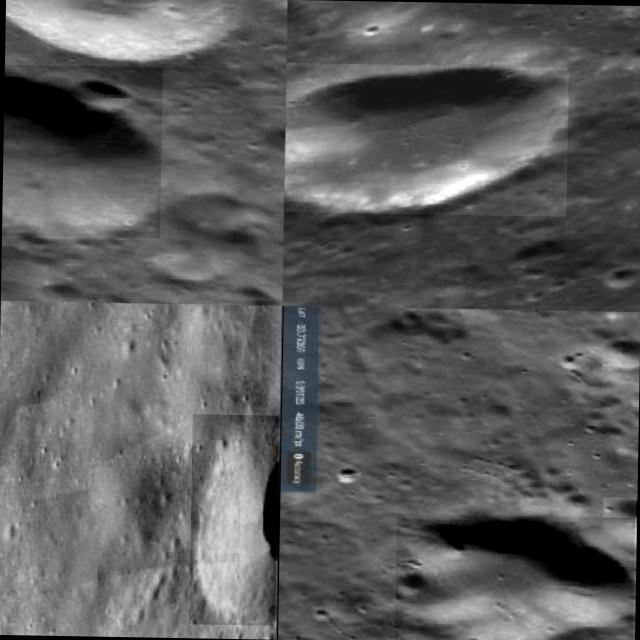crater: (284, 62, 568, 216), (394, 514, 634, 640), (1, 65, 162, 238), (188, 414, 278, 626), (4, 0, 240, 67), (68, 78, 134, 112), (602, 497, 636, 547)
